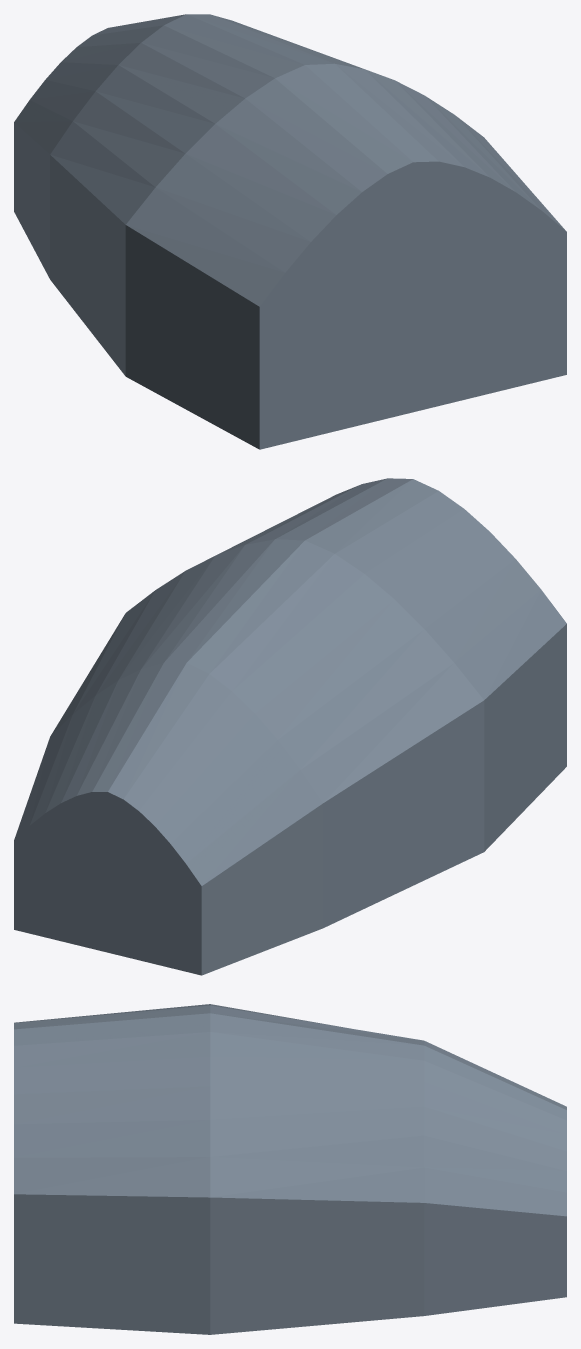
The model's file is 14_transaxle_gearbox.glb.
The picture shows the model from 3 angles, top to bottom: view 1: azimuth 30°, elevation 25°; view 2: azimuth 150°, elevation 25°; view 3: azimuth 270°, elevation 25°; orthographic projection. The views are drawn at different scales.
Parts seen in each view (by area): view 1: Rear transaxle and gearbox; view 2: Rear transaxle and gearbox; view 3: Rear transaxle and gearbox.
Boxes of the visible parts, <box> form: Rear transaxle and gearbox: <box>14,14,566,449</box>; Rear transaxle and gearbox: <box>14,478,566,975</box>; Rear transaxle and gearbox: <box>14,1004,566,1334</box>.
Bounding box in the file's own units: 0.021 × 0.015 × 0.031.
